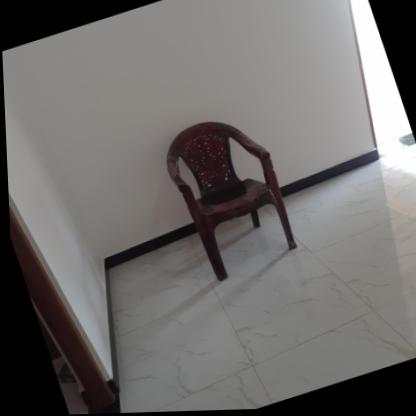Chair: (153, 105, 302, 289)
